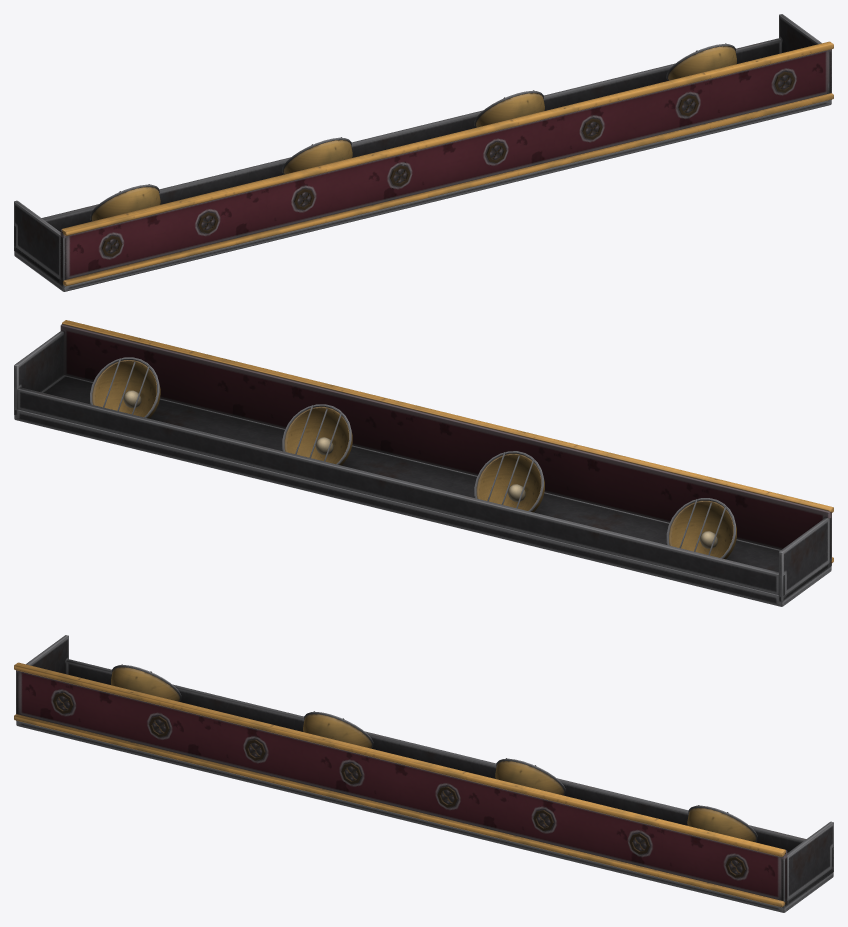
The model's file is Footlights.fbx.
3 views of the same model, one above another, from view 1: azimuth 30°, elevation 25°; view 2: azimuth 150°, elevation 25°; view 3: azimuth 330°, elevation 25° (orthographic).
Parts seen in each view (by area): view 1: Footlights_Main; view 2: Footlights_Main, Footlights_Glow; view 3: Footlights_Main.
Part boxes in pixels (left/top/right/bottom): Footlights_Main: left=14, top=14, right=833, bottom=291; Footlights_Main: left=14, top=320, right=833, bottom=606; Footlights_Glow: left=123, top=390, right=717, bottom=548; Footlights_Main: left=14, top=635, right=833, bottom=912.
Bounding box in the file's own units: 800 × 65.5 × 94.
